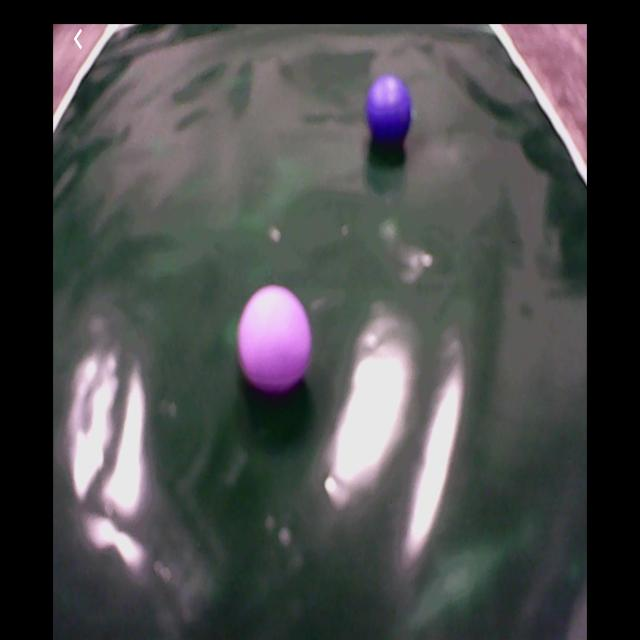ball: (242, 287, 312, 396), (367, 78, 412, 150)
